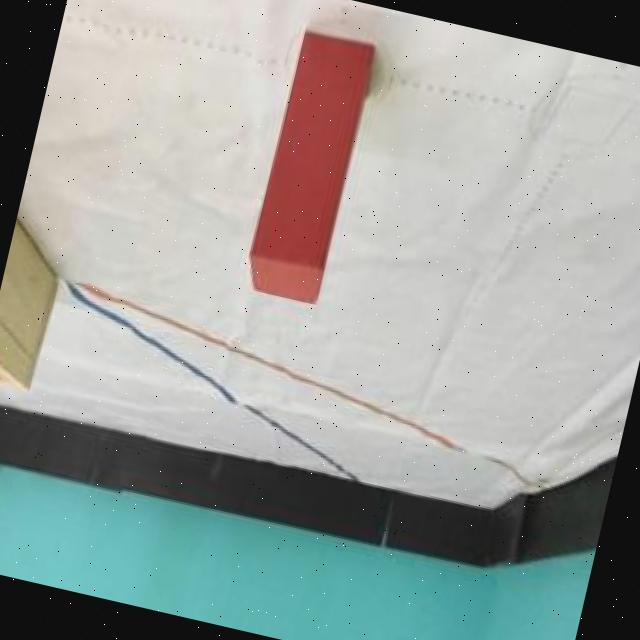redbox: (242, 28, 376, 304)
